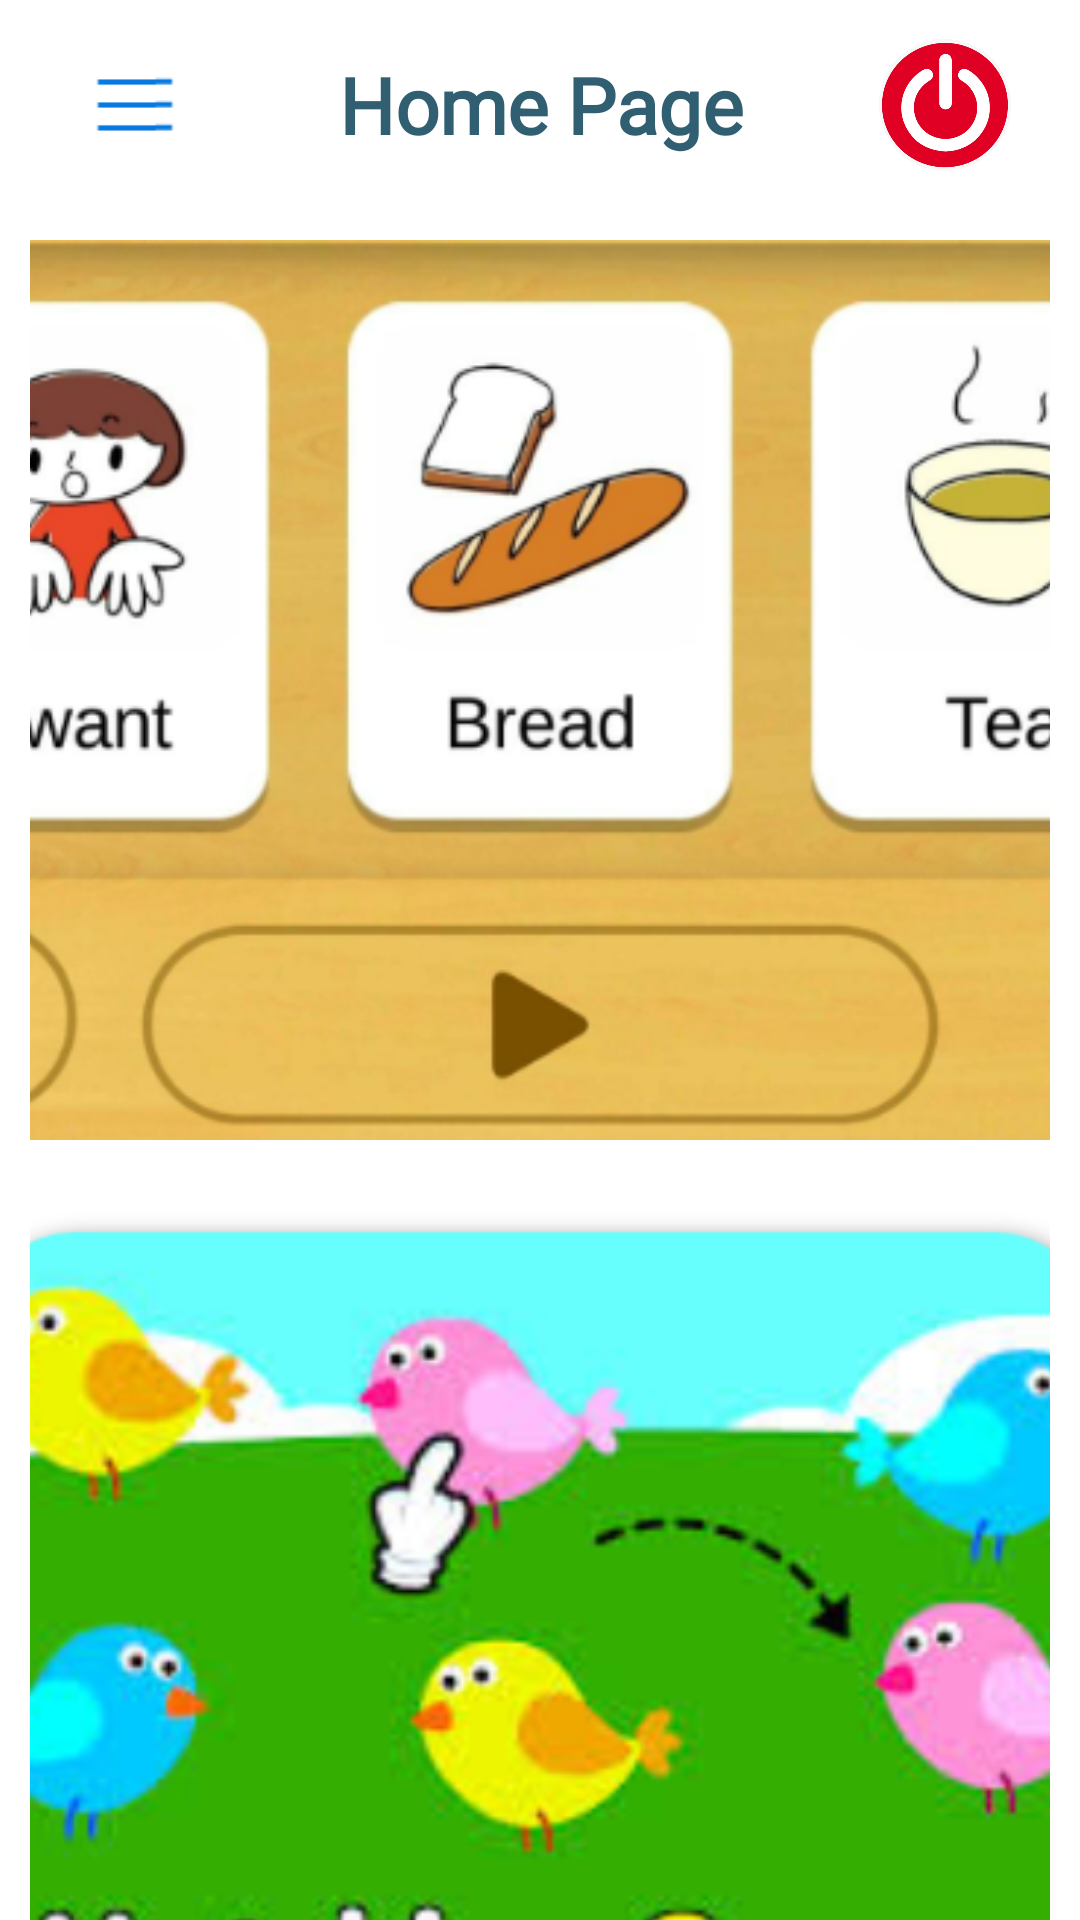

Icons on this 1080px×1920px Android screen, each with the point to tap as (x,y):
menuicon: (135,104)
